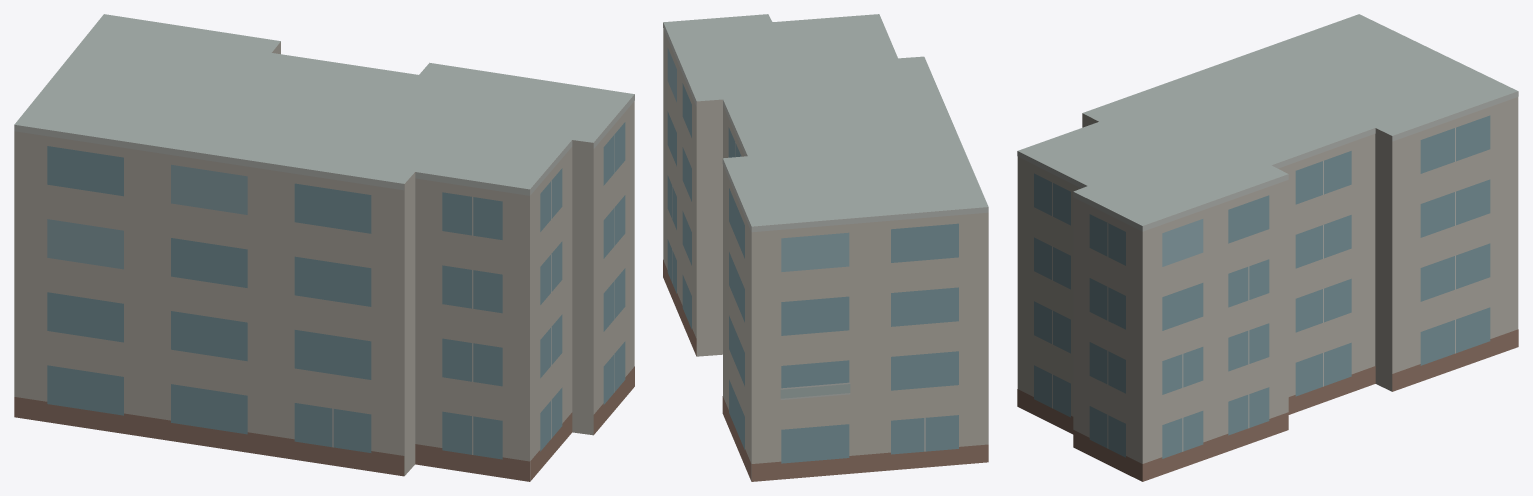
File: survey-upis-32903871.glb
The picture shows the model from 3 angles, left to right: view 1: azimuth 30°, elevation 25°; view 2: azimuth 150°, elevation 25°; view 3: azimuth 270°, elevation 25°; orthographic projection. The views are drawn at different scales.
Parts seen in each view (by area): view 1: survey-upis-32903871.tmp; view 2: survey-upis-32903871.tmp; view 3: survey-upis-32903871.tmp.
Part boxes in pixels (x1=…): survey-upis-32903871.tmp: x1=14, y1=14, x2=634, y2=481; survey-upis-32903871.tmp: x1=663, y1=14, x2=988, y2=481; survey-upis-32903871.tmp: x1=1017, y1=14, x2=1518, y2=481.
Size of the model in its own units: 19.65 by 11.05 by 19.61.
